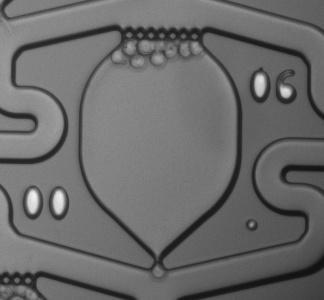AptNum: (243, 63, 303, 111)
Marker: (241, 214, 263, 235)
StNum: (15, 177, 79, 228)
Trap: (133, 257, 190, 300)
